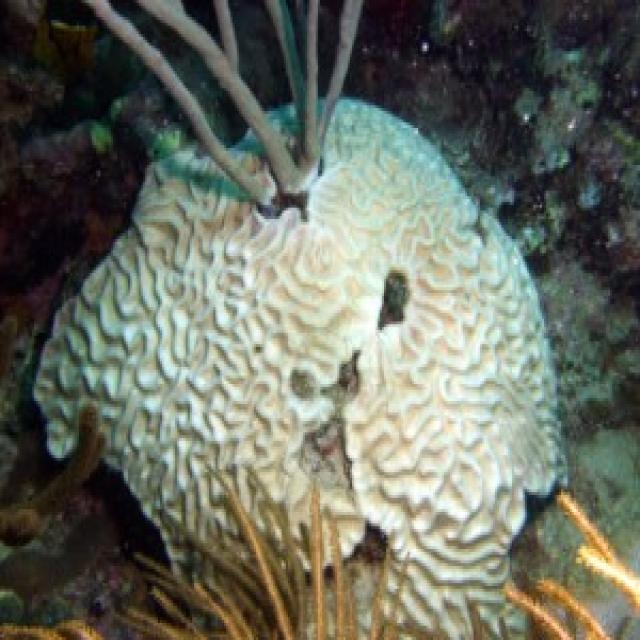Bleached: (34, 100, 565, 637)
